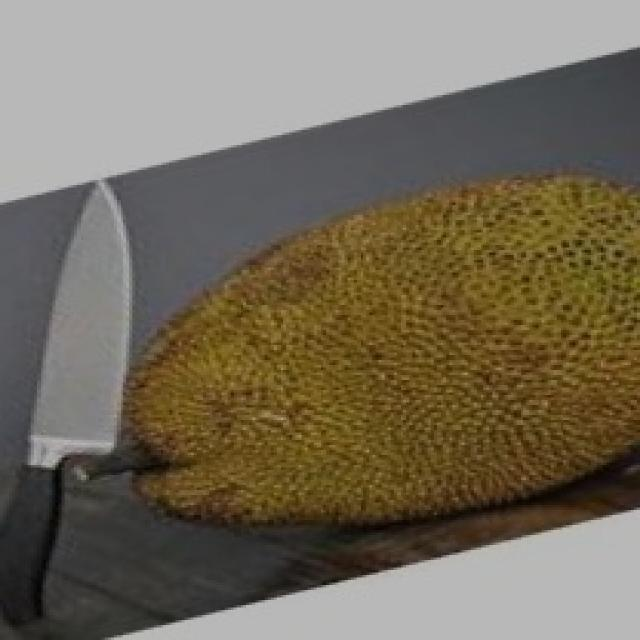Fruit: (227, 122, 640, 569)
